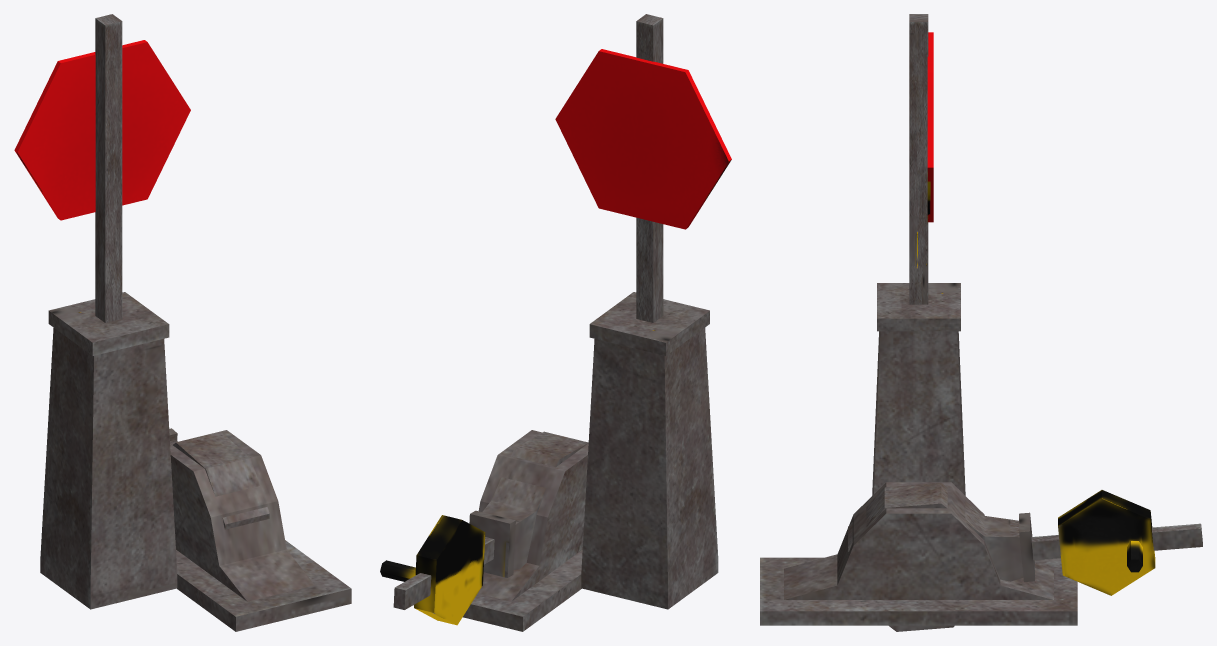
File: RailSwitch.fbx_Scene.fbx
3 views of the same model, side by side, from view 1: azimuth 30°, elevation 25°; view 2: azimuth 150°, elevation 25°; view 3: azimuth 270°, elevation 25° (orthographic). The views are drawn at different scales.
Visible parts, largest first — view 1: RailSignBase, RailSign, RailSwitchBase, RailSwitch; view 2: RailSignBase, RailSign, RailSwitch, RailSwitchBase; view 3: RailSwitchBase, RailSignBase, RailSwitch, RailSign.
Boxes of the visible parts, x1,y1,x2,y2 form: RailSignBase: (40, 292, 177, 609); RailSign: (14, 14, 190, 322); RailSwitchBase: (170, 430, 351, 631); RailSwitch: (169, 428, 269, 529); RailSignBase: (581, 292, 718, 609); RailSign: (555, 14, 731, 322); RailSwitch: (380, 431, 588, 625); RailSwitchBase: (413, 430, 588, 631); RailSwitchBase: (760, 482, 1077, 625); RailSignBase: (872, 283, 965, 495); RailSwitch: (848, 482, 1202, 631); RailSign: (909, 14, 933, 304).
Size of the model in its own units: 170 by 387 by 279.
